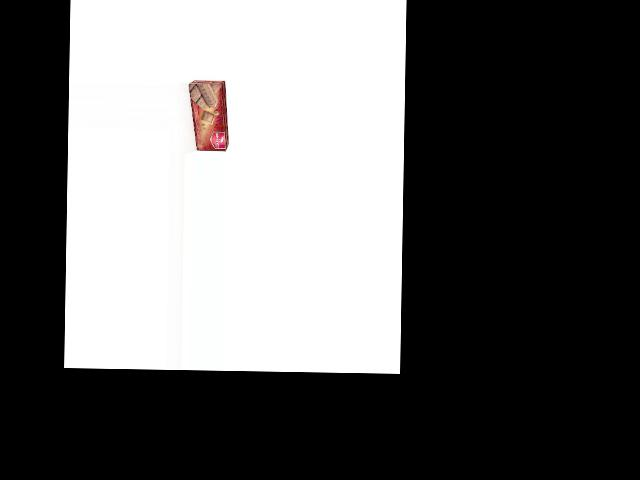chocolate: (186, 81, 230, 151)
